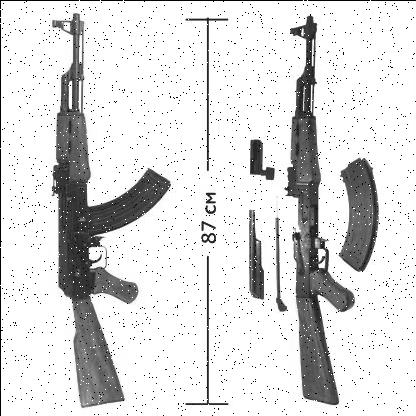rifle: (34, 14, 181, 409), (265, 18, 399, 404)
